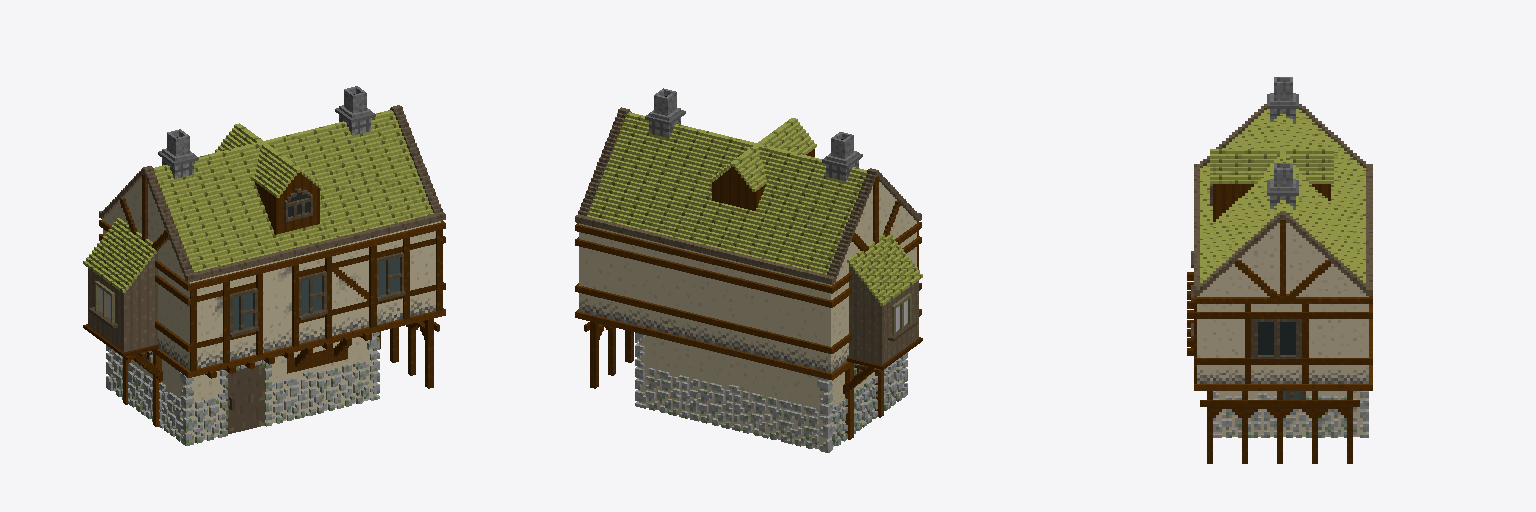
3 renders of one model, left to right at view 1: azimuth 30°, elevation 25°; view 2: azimuth 150°, elevation 25°; view 3: azimuth 270°, elevation 25°, orthographic.
Parts seen in each view (by area): view 1: object 1; view 2: object 1; view 3: object 1.
Boxes of the visible parts, x1,y1,x2,y2 form: object 1: [83, 86, 445, 445]; object 1: [575, 88, 922, 452]; object 1: [1187, 77, 1372, 463].
Size of the model in its own units: 10.6 by 9.6 by 5.8.
Materials: 1 (1 with a texture image).